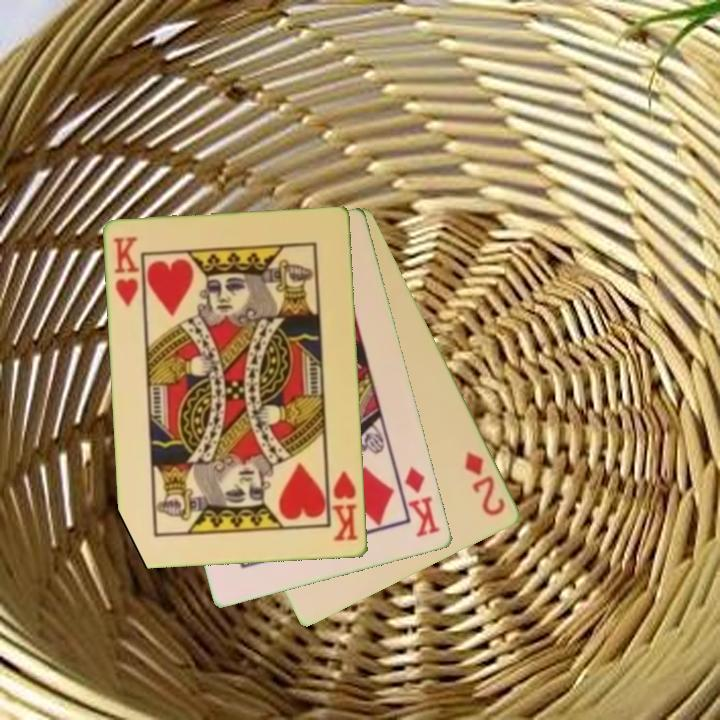2d: (461, 448, 509, 519)
Kd: (402, 463, 443, 541)
Kh: (325, 464, 361, 544), (111, 233, 143, 310)
